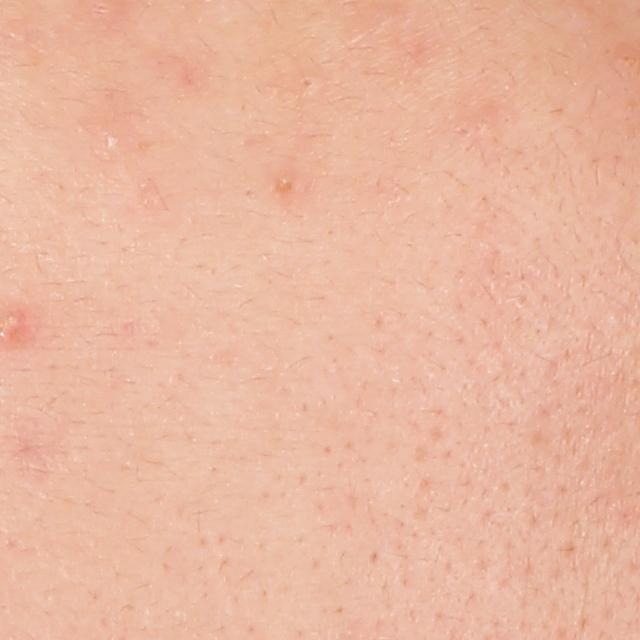comedo: (298, 74, 320, 95), (273, 175, 293, 196)
